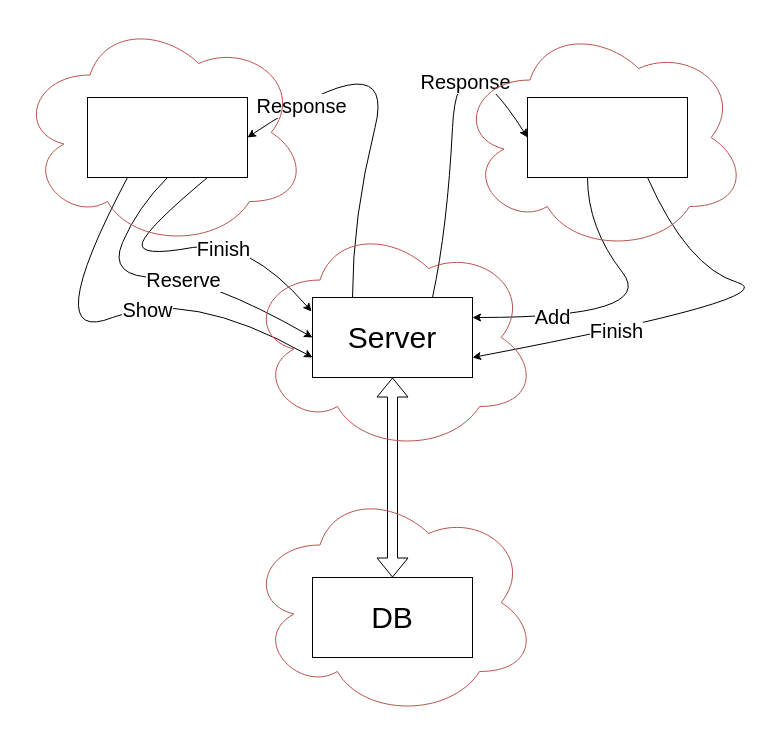
The diagram is 765 pixels wide and 735 high, and some of its shapes have lost their labels. The centre of each missing label's shape, as x and y in pixels:
Client Driver: (607,137)
Client Rider: (167,137)
